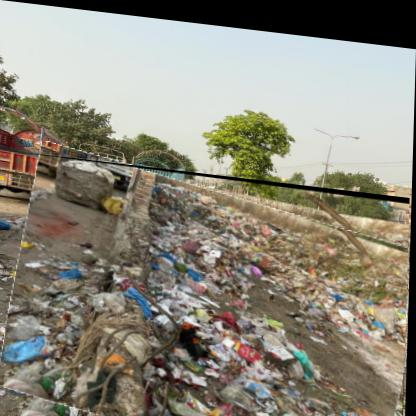Garbage: (6, 151, 413, 416)
